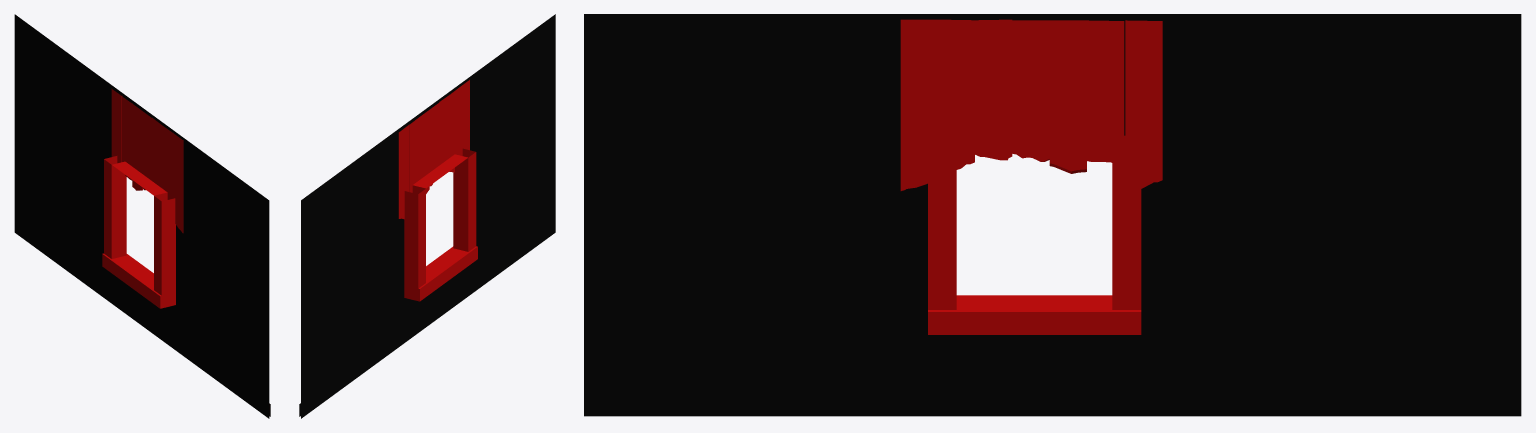
The model's file is MI_OfficeWall01_RightWall.fbx.
3 renders of one model, left to right at view 1: azimuth 30°, elevation 25°; view 2: azimuth 150°, elevation 25°; view 3: azimuth 270°, elevation 25°, orthographic. The views are drawn at different scales.
Visible parts, largest first — view 1: SM_ST_Office01.mo, SM_ST_Office01.mo.001; view 2: SM_ST_Office01.mo, SM_ST_Office01.mo.001; view 3: SM_ST_Office01.mo, SM_ST_Office01.mo.001.
Boxes of the visible parts, <box> form: SM_ST_Office01.mo: <box>14,14,270,418</box>; SM_ST_Office01.mo.001: <box>102,89,183,308</box>; SM_ST_Office01.mo: <box>299,14,555,418</box>; SM_ST_Office01.mo.001: <box>398,79,477,301</box>; SM_ST_Office01.mo: <box>584,14,1521,416</box>; SM_ST_Office01.mo.001: <box>900,19,1162,334</box>.
Bounding box in the file's own units: 34.87 × 822 × 389.
